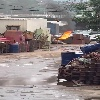fire: (58, 31, 71, 39)
